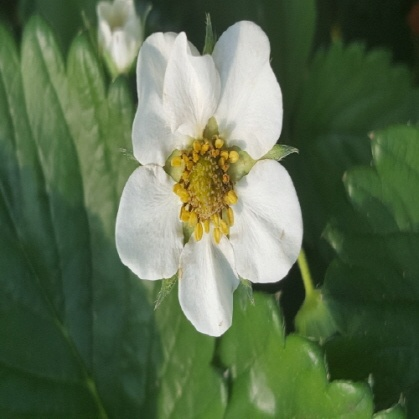Blossom_BT: (168, 172, 241, 286)
